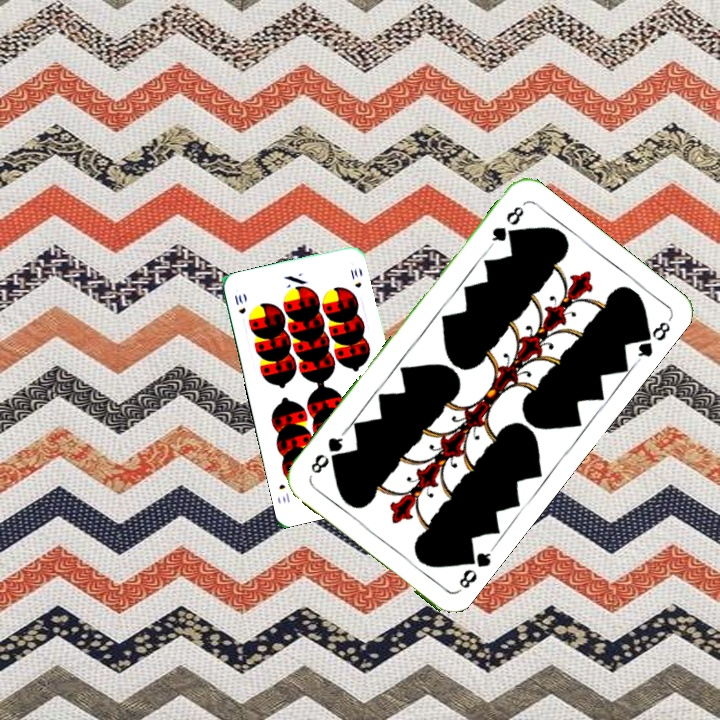G8: (454, 544, 496, 594), (485, 202, 527, 250)
S10: (230, 290, 248, 316)
